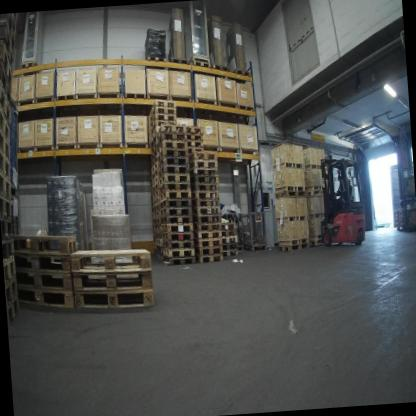forklift: (308, 145, 370, 253)
pallet: (68, 241, 152, 278), (72, 281, 158, 315), (68, 261, 153, 291), (17, 282, 79, 316), (10, 230, 78, 257), (18, 263, 83, 291), (12, 248, 79, 274), (145, 107, 179, 128), (156, 148, 189, 169), (0, 21, 15, 67), (147, 97, 177, 120), (155, 131, 189, 151), (156, 139, 189, 159), (0, 144, 15, 186), (19, 58, 46, 80), (147, 114, 180, 132), (0, 57, 13, 102), (148, 120, 177, 140), (0, 14, 15, 52), (0, 99, 12, 145), (0, 80, 13, 121), (156, 165, 189, 181), (5, 278, 22, 308), (157, 182, 192, 196), (4, 260, 22, 287), (143, 52, 168, 71), (159, 205, 192, 219), (0, 125, 13, 160), (159, 173, 191, 187), (161, 221, 193, 235), (162, 254, 196, 267), (229, 67, 252, 86), (189, 157, 218, 172), (7, 296, 23, 323), (0, 170, 13, 203), (2, 242, 19, 267), (158, 156, 188, 170), (276, 241, 311, 253), (0, 40, 11, 78), (159, 189, 191, 202), (162, 247, 196, 259), (159, 214, 192, 226), (192, 180, 220, 194), (156, 124, 187, 136), (161, 238, 192, 250), (272, 188, 305, 199), (1, 195, 16, 219), (211, 62, 231, 80), (160, 198, 190, 210), (188, 153, 218, 165), (195, 254, 225, 265), (161, 233, 193, 243), (192, 198, 221, 209), (169, 57, 190, 72), (194, 222, 222, 233), (190, 167, 218, 178), (181, 123, 203, 137), (191, 192, 221, 202), (7, 14, 20, 37), (196, 246, 223, 257), (195, 238, 222, 249), (193, 214, 222, 224), (192, 206, 221, 216), (2, 218, 15, 240), (191, 57, 210, 72), (195, 231, 222, 241), (190, 176, 218, 185), (308, 237, 327, 248), (183, 132, 203, 142), (303, 189, 324, 198), (184, 140, 204, 149), (223, 250, 239, 261), (151, 173, 164, 186), (220, 221, 235, 232), (151, 182, 163, 195), (221, 236, 238, 245), (222, 243, 239, 252), (150, 154, 160, 167), (220, 230, 238, 237), (152, 196, 162, 208), (187, 148, 204, 155), (149, 129, 157, 143), (150, 149, 160, 160), (151, 169, 161, 180), (152, 190, 162, 201), (150, 143, 159, 155), (150, 163, 160, 172), (153, 204, 162, 213), (157, 245, 164, 256), (393, 226, 404, 233), (154, 218, 162, 226), (154, 225, 162, 233), (154, 212, 162, 219), (394, 213, 403, 219), (156, 232, 163, 239), (157, 240, 163, 248), (395, 208, 403, 214), (394, 218, 404, 222), (395, 222, 404, 226)
stillage: (7, 97, 26, 196), (241, 203, 269, 254), (223, 207, 248, 261), (7, 196, 26, 238), (401, 165, 416, 201), (402, 198, 416, 232)
